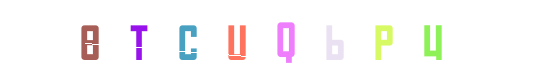4: (393, 0, 473, 80)
8: (49, 0, 129, 80)
B: (238, 0, 318, 80)
C: (147, 0, 227, 80)
P: (350, 0, 430, 80)
Q: (236, 0, 316, 80)
T: (98, 0, 178, 80)
U: (175, 0, 255, 80)
